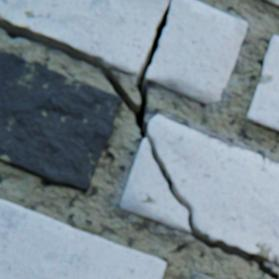brick: (0, 52, 122, 192), (0, 200, 166, 278), (247, 37, 278, 132), (257, 0, 278, 9), (192, 273, 211, 278)
broken_brick: (148, 116, 278, 265), (0, 0, 167, 76), (146, 0, 247, 104), (121, 139, 190, 233)
crack: (0, 0, 278, 278)
